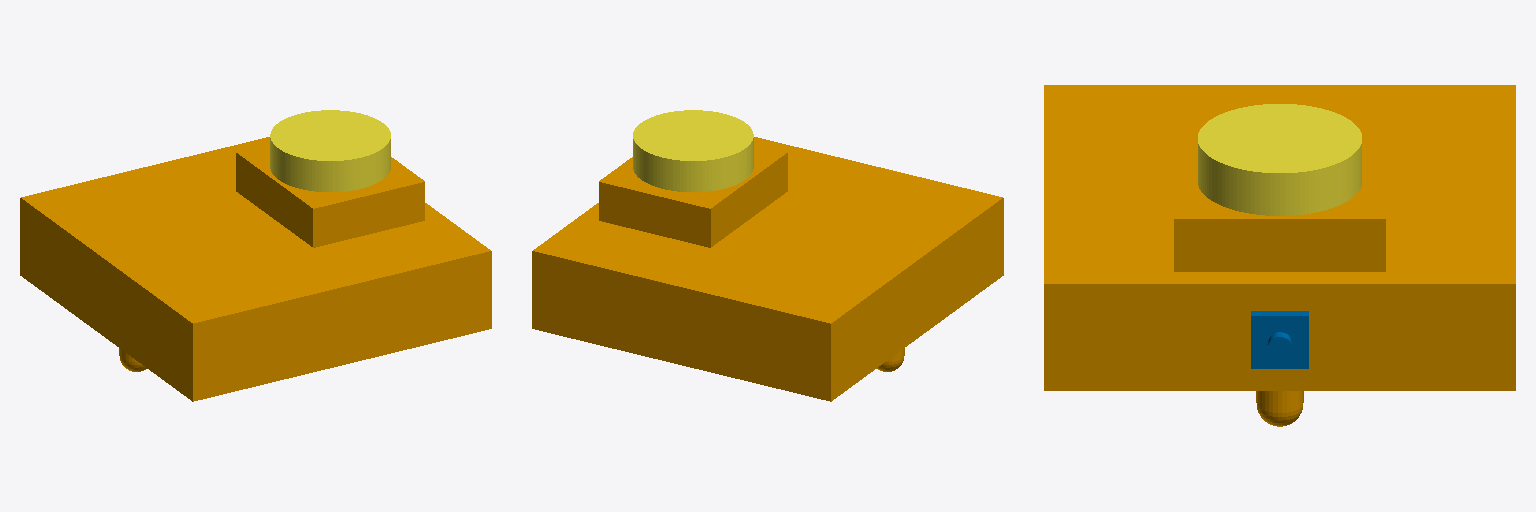
robot.urdf — robot:
<?xml version='1.0' encoding='utf-8'?>
<robot name="robot">
    <link name="base_link">
        <inertial>
            <origin xyz="0.0038662210655893464 0.0 0.052675337982169175" rpy="0.0 0.0 0.0" />
            <mass value="17.13155401009962" />
            <inertia ixx="0.0584527227543141" iyy="0.06191909363698124" izz="0.10992638017861338" ixy="0.0" iyz="0.0" ixz="-0.002306589723332078" />
        </inertial>
        <visual name="base_link_visual">
            <origin xyz="0.0 0.0 0.0" rpy="0.0 0.0 0.0" />
            <geometry>
                <mesh filename="meshes/base_link.stl" scale="0.001 0.001 0.001" />
            </geometry>
        </visual>
        <collision name="base_link_collision">
            <origin xyz="0.0 0.0 0.0" rpy="0.0 0.0 0.0" />
            <geometry>
                <mesh filename="meshes/base_link.stl" scale="0.001 0.001 0.001" />
            </geometry>
        </collision>
    </link>
    <link name="right_wheel">
        <inertial>
            <origin xyz="5.7900231001220315e-18 0.0 0.012500000000000053" rpy="0.0 -0.0 0.0" />
            <mass value="1.5413438956674914" />
            <inertia ixx="0.0010436182626914897" iyy="0.0010436182626915452" izz="0.0019266798695843383" ixy="2.677325028344055e-19" iyz="1.734723475976807e-18" ixz="-1.7179502265207697e-18" />
        </inertial>
        <visual name="right_wheel_visual">
            <origin xyz="0.0 0.05 0.12500000000000003" rpy="1.5707963267948966 -0.0 0.0" />
            <geometry>
                <mesh filename="meshes/right_wheel.stl" scale="0.001 0.001 0.001" />
            </geometry>
        </visual>
        <collision name="right_wheel_collision">
            <origin xyz="0.0 0.05 0.12500000000000003" rpy="1.5707963267948966 -0.0 0.0" />
            <geometry>
                <mesh filename="meshes/right_wheel.stl" scale="0.001 0.001 0.001" />
            </geometry>
        </collision>
    </link>
    <link name="left_wheel">
        <inertial>
            <origin xyz="5.7900231001220315e-18 0.0 0.012500000000000018" rpy="0.0 -0.0 0.0" />
            <mass value="1.5413438956674914" />
            <inertia ixx="0.0010436182626914932" iyy="0.0010436182626915522" izz="0.0019266798695843383" ixy="2.677325028344058e-19" iyz="0.0" ixz="1.5394618912978329e-18" />
        </inertial>
        <visual name="left_wheel_visual">
            <origin xyz="0.0 0.05 -0.1" rpy="1.5707963267948966 -0.0 0.0" />
            <geometry>
                <mesh filename="meshes/left_wheel.stl" scale="0.001 0.001 0.001" />
            </geometry>
        </visual>
        <collision name="left_wheel_collision">
            <origin xyz="0.0 0.05 -0.1" rpy="1.5707963267948966 -0.0 0.0" />
            <geometry>
                <mesh filename="meshes/left_wheel.stl" scale="0.001 0.001 0.001" />
            </geometry>
        </collision>
    </link>
    <link name="lidar">
        <inertial>
            <origin xyz="0.0 0.0 0.009999999999999983" rpy="0.0 -0.0 0.0" />
            <mass value="0.6042068071016568" />
            <inertia ixx="0.0002051785615782651" iyy="0.0002051785615782755" izz="0.0003700766693497588" ixy="-8.924416761146858e-20" iyz="-4.908429218630772e-19" ixz="-4.336808689942018e-19" />
        </inertial>
        <visual name="lidar_visual">
            <origin xyz="-0.05 0.0 -0.1" rpy="0.0 -0.0 0.0" />
            <geometry>
                <mesh filename="meshes/lidar.stl" scale="0.001 0.001 0.001" />
            </geometry>
        </visual>
        <collision name="lidar_collision">
            <origin xyz="-0.05 0.0 -0.1" rpy="0.0 -0.0 0.0" />
            <geometry>
                <mesh filename="meshes/lidar.stl" scale="0.001 0.001 0.001" />
            </geometry>
        </collision>
    </link>
    <link name="camera">
        <inertial>
            <origin xyz="0.0 -1.167355140468276e-13 0.0030581760585232944" rpy="0.0 -0.0 0.0" />
            <mass value="0.02761393779133511" />
            <inertia ixx="1.4229288925050702e-06" iyy="1.422928887528528e-06" izz="2.5938721415465975e-06" ixy="1.394440118934782e-21" iyz="-1.7954610095097166e-18" ixz="0.0" />
        </inertial>
        <visual name="camera_visual">
            <origin xyz="-0.05 0.0 -0.1" rpy="-3.141592653589793 -1.5707963267948966 0" />
            <geometry>
                <mesh filename="meshes/camera.stl" scale="0.001 0.001 0.001" />
            </geometry>
        </visual>
        <collision name="camera_collision">
            <origin xyz="-0.05 0.0 -0.1" rpy="-3.141592653589793 -1.5707963267948966 0" />
            <geometry>
                <mesh filename="meshes/camera.stl" scale="0.001 0.001 0.001" />
            </geometry>
        </collision>
    </link>
    <joint name="base_link_Revolute-1" type="continuous">
        <origin xyz="0.0 0.1 0.05" rpy="-1.5707963267948966 -0.0 0.0" />
        <parent link="base_link" />
        <child link="left_wheel" />
        <axis xyz="0.0 0.0 1.0" />
    </joint>
    <joint name="base_link_Revolute-2" type="continuous">
        <origin xyz="0.0 -0.1 0.05" rpy="1.5707963267948966 -0.0 0.0" />
        <parent link="base_link" />
        <child link="right_wheel" />
        <axis xyz="0.0 0.0 -1.0" />
    </joint>
    <joint name="base_link_Rigid-3" type="fixed">
        <origin xyz="0.05 0.0 0.1" rpy="0.0 -0.0 0.0" />
        <parent link="base_link" />
        <child link="lidar" />
    </joint>
    <joint name="base_link_Rigid-4" type="fixed">
        <origin xyz="0.1 0.0 0.05" rpy="-3.141592653589793 -1.5707963267948966 0" />
        <parent link="base_link" />
        <child link="camera" />
    </joint>
</robot>

--- Render facts (derived) ---
3 views of the same robot in one strip: view 1: azimuth 30°, elevation 25°; view 2: azimuth 150°, elevation 25°; view 3: azimuth 270°, elevation 25° (orthographic).
Model robot with 5 links and 4 joints (2 continuous, 2 fixed), rooted at base_link, posed every joint at zero.
Visible links, largest first — view 1: base_link, lidar; view 2: base_link, lidar; view 3: base_link, lidar, camera.
Boxes of the visible links, bbox=[...] form: base_link: bbox=[20, 137, 491, 401]; lidar: bbox=[270, 110, 390, 191]; base_link: bbox=[532, 137, 1003, 401]; lidar: bbox=[633, 110, 753, 191]; base_link: bbox=[1044, 85, 1515, 426]; lidar: bbox=[1198, 104, 1361, 215]; camera: bbox=[1251, 311, 1308, 368].
Size in the robot's own frame: 0.21 by 0.2 by 0.12 metres.
3 mesh visuals loaded from 5 distinct referenced files (3 binary STL); not drawn: 2 (reference not matched to a file when rendering).